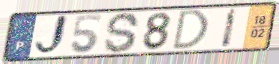5: (71, 13, 105, 56)
8: (141, 12, 173, 52)
D: (170, 9, 210, 52)
I: (219, 7, 239, 49)
J: (33, 13, 70, 58)
S: (103, 11, 142, 54)
